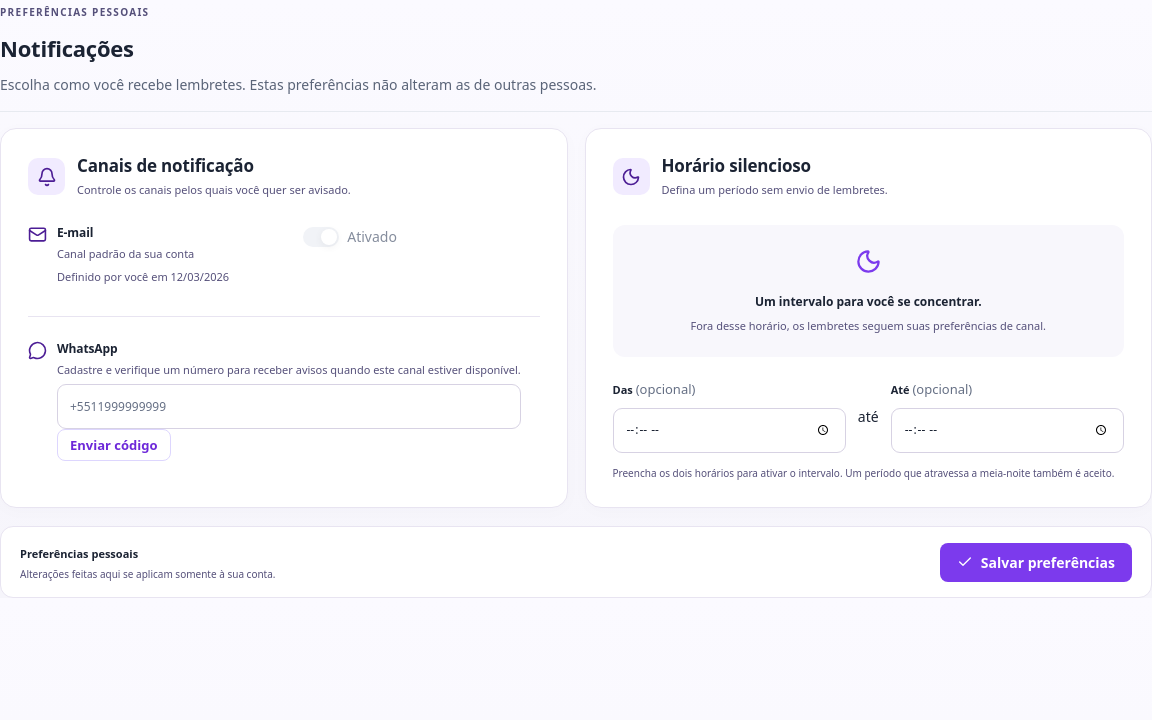
Test: NotificationPreferences (A18, Block 8) › disables Save during a conflict, and 'Recarregar' re-hydrates the form and clears it
Expected: the switch labelled "Ativado" is shown, top-left (303, 225), bottom-right (397, 249)
Click the button "Salvar preferências": (1036, 562) top-left (940, 543), bottom-right (1132, 582)
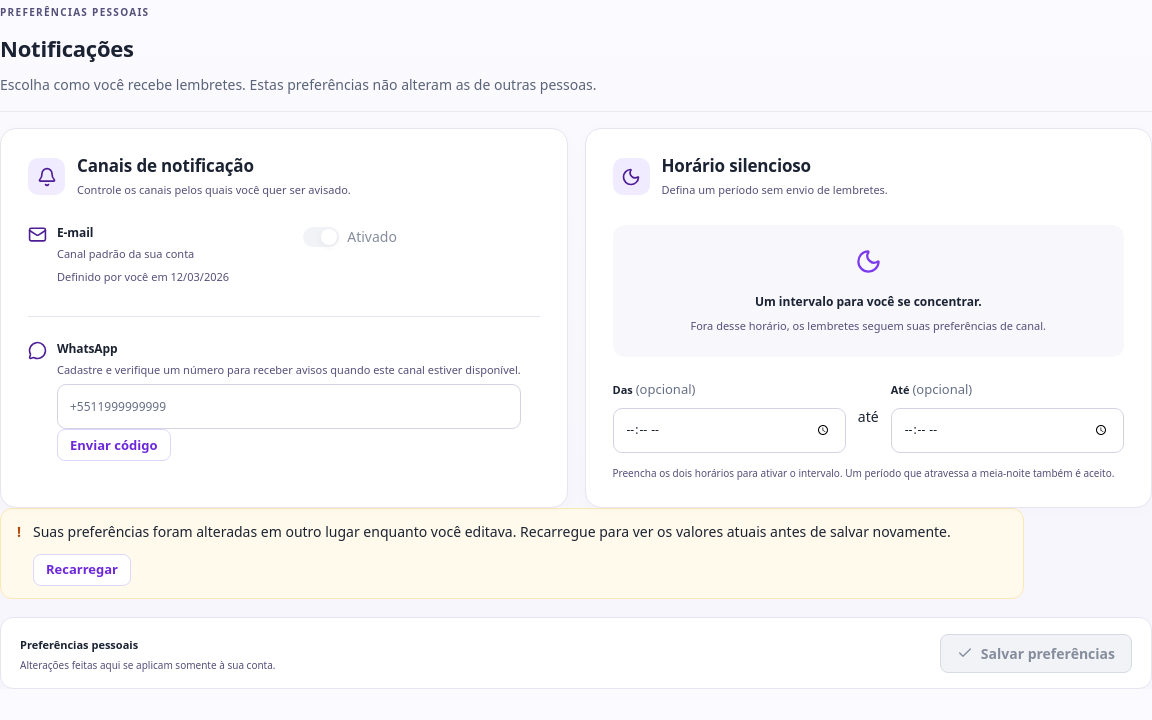
Expected: the button "Recarregar" is shown
Expected: the button "Salvar preferências" is disabled, top-left (940, 634), bottom-right (1132, 673)
Click the button "Recarregar": (82, 570) top-left (33, 554), bottom-right (131, 586)
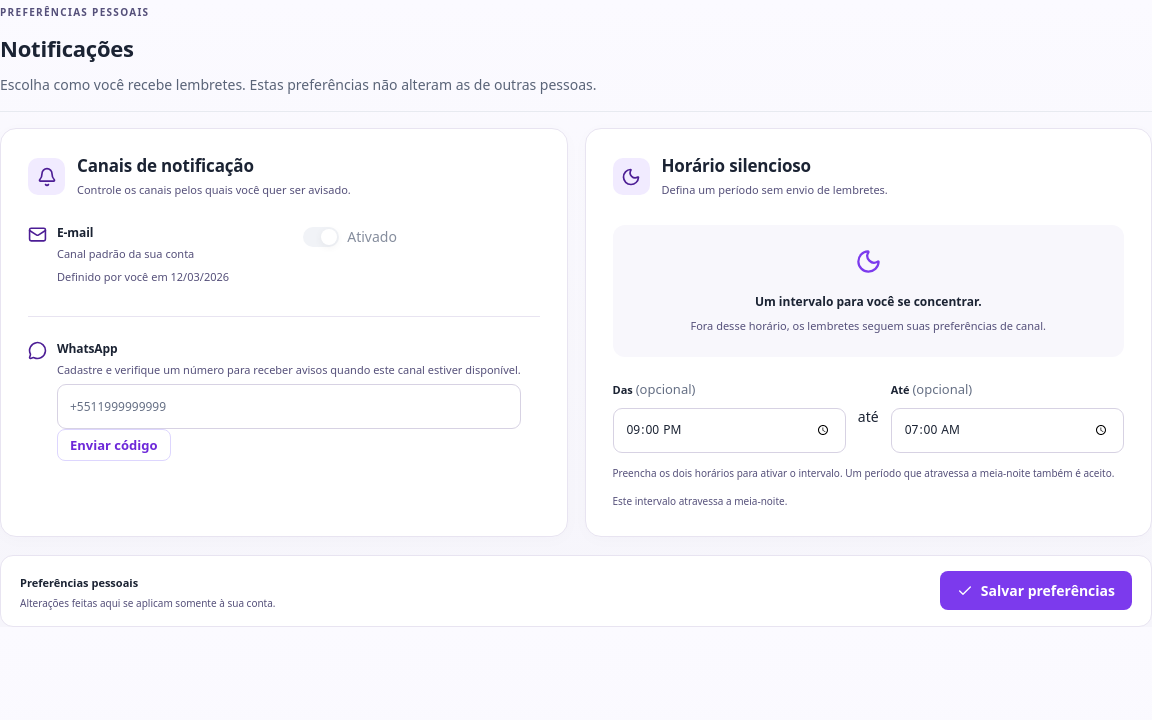
Expected: the time field labelled "Das (opcional)" holds "21:00", top-left (612, 408), bottom-right (846, 453)
Expected: the button "Salvar preferências" is enabled, top-left (940, 571), bottom-right (1132, 610)
